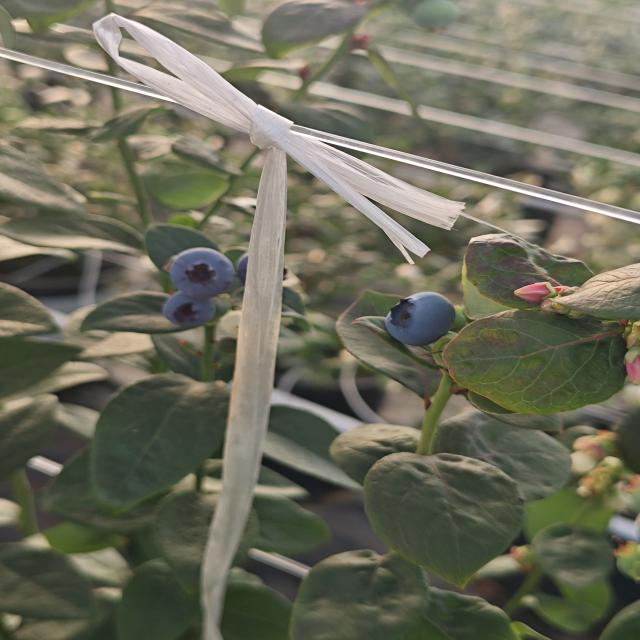ripe: (382, 289, 458, 349), (159, 245, 239, 302), (160, 290, 217, 329)
